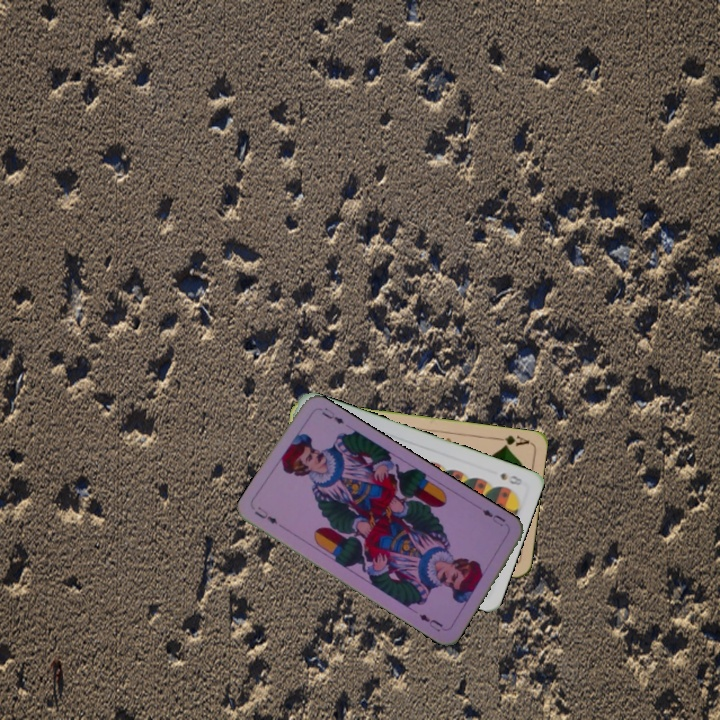EU: (478, 505, 508, 529), (251, 503, 280, 527)
GA: (491, 431, 532, 450)
S8: (496, 468, 526, 488)
